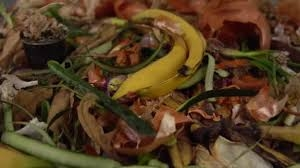kitchen_waste: (109, 4, 211, 110), (43, 58, 157, 135), (217, 40, 299, 96)
